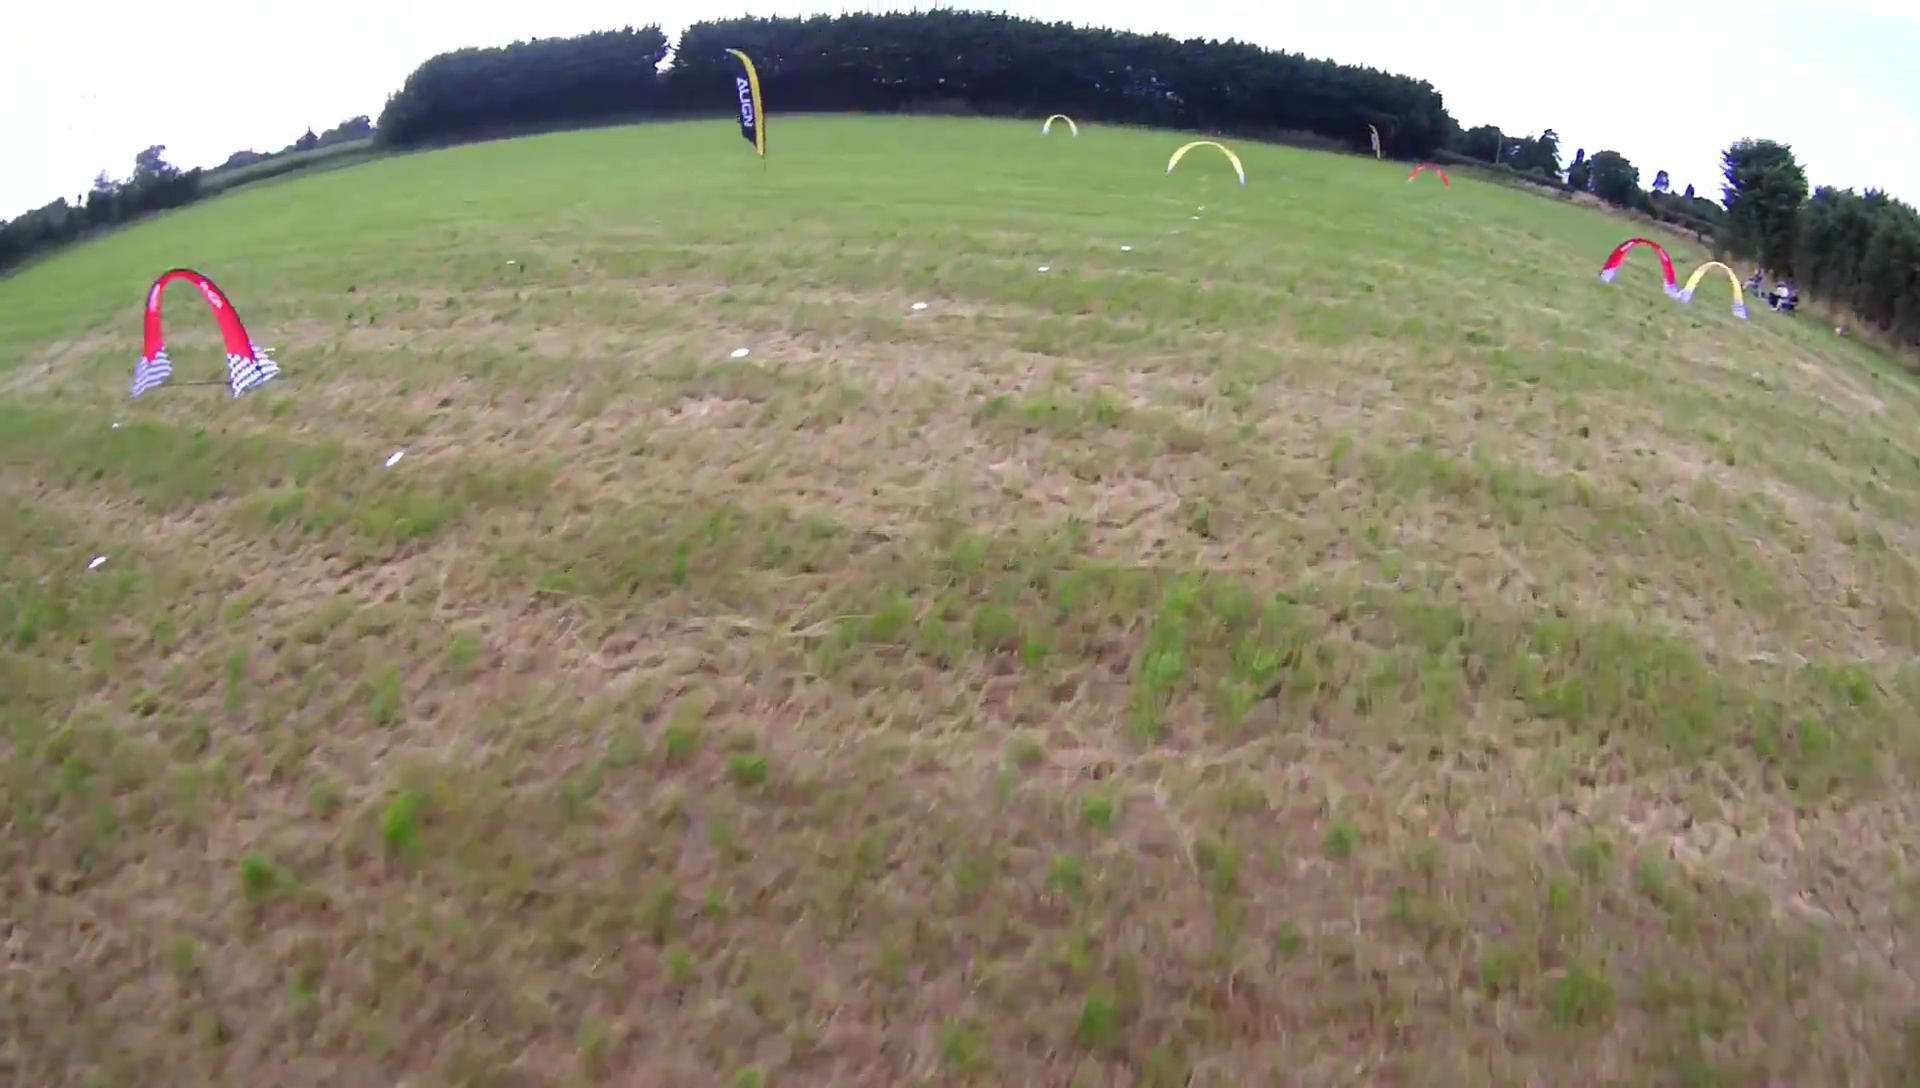gate: (131, 266, 285, 400), (1600, 237, 1677, 299), (1677, 258, 1749, 322), (1162, 137, 1247, 186), (1404, 162, 1453, 189), (1040, 112, 1080, 137)
